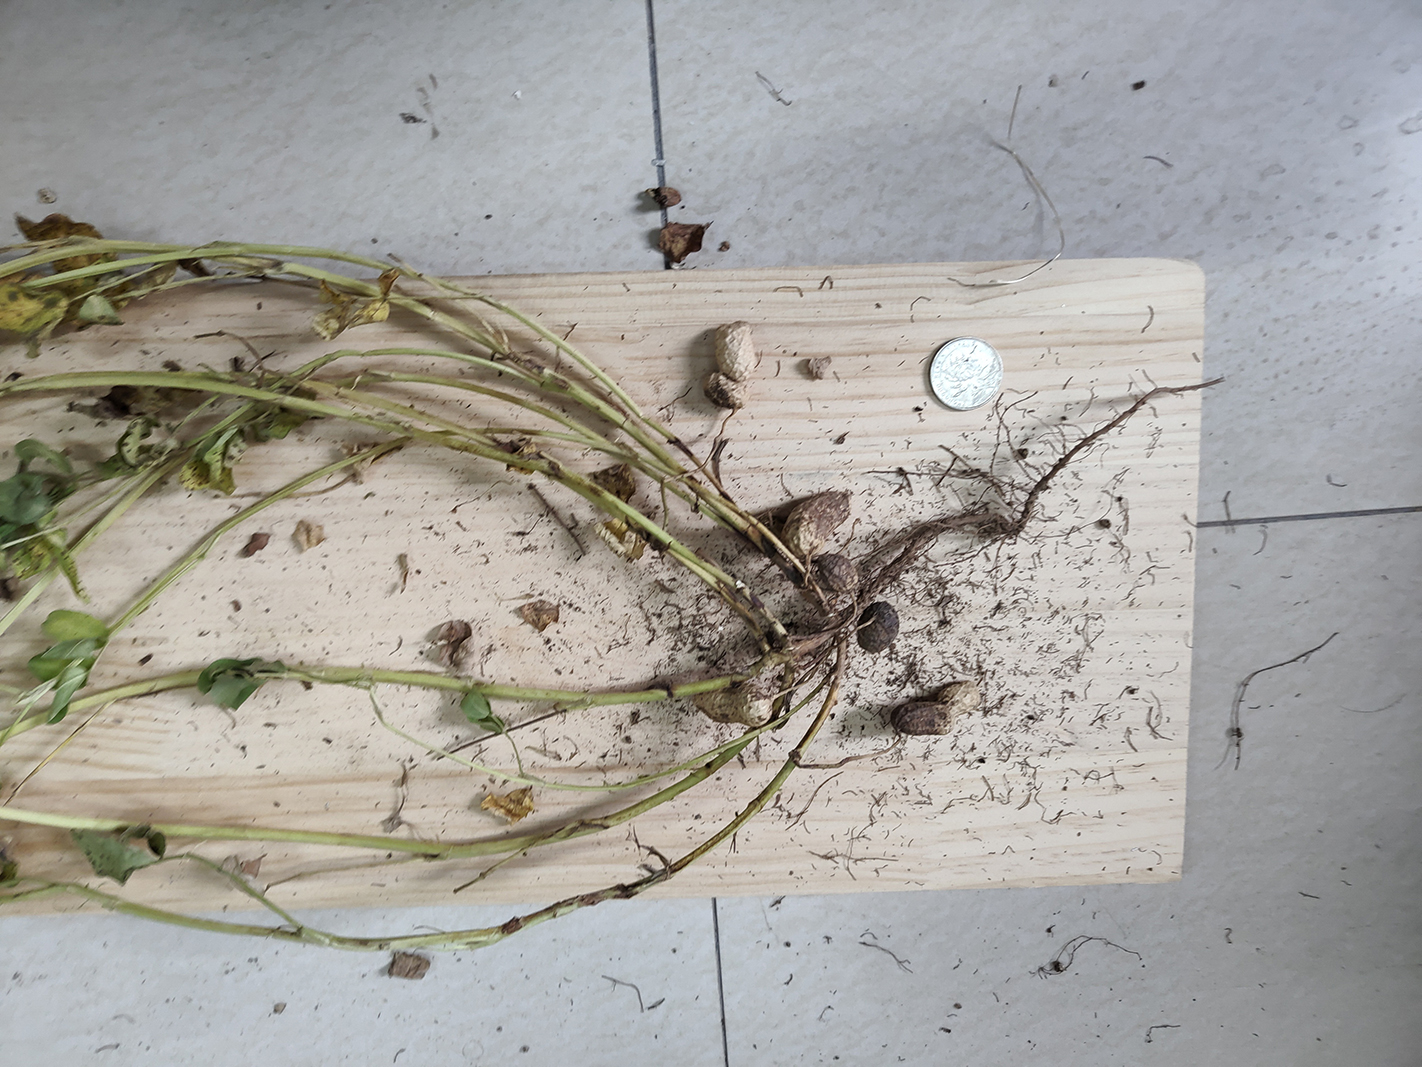h: (706, 321, 756, 410), (700, 689, 777, 729)
l: (891, 678, 978, 736), (783, 489, 854, 558), (856, 603, 900, 655), (816, 554, 858, 593)
